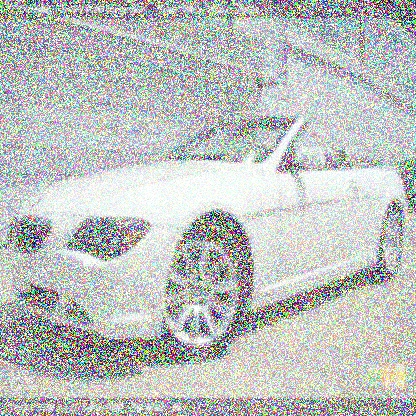Vehicle: (2, 110, 413, 368)
